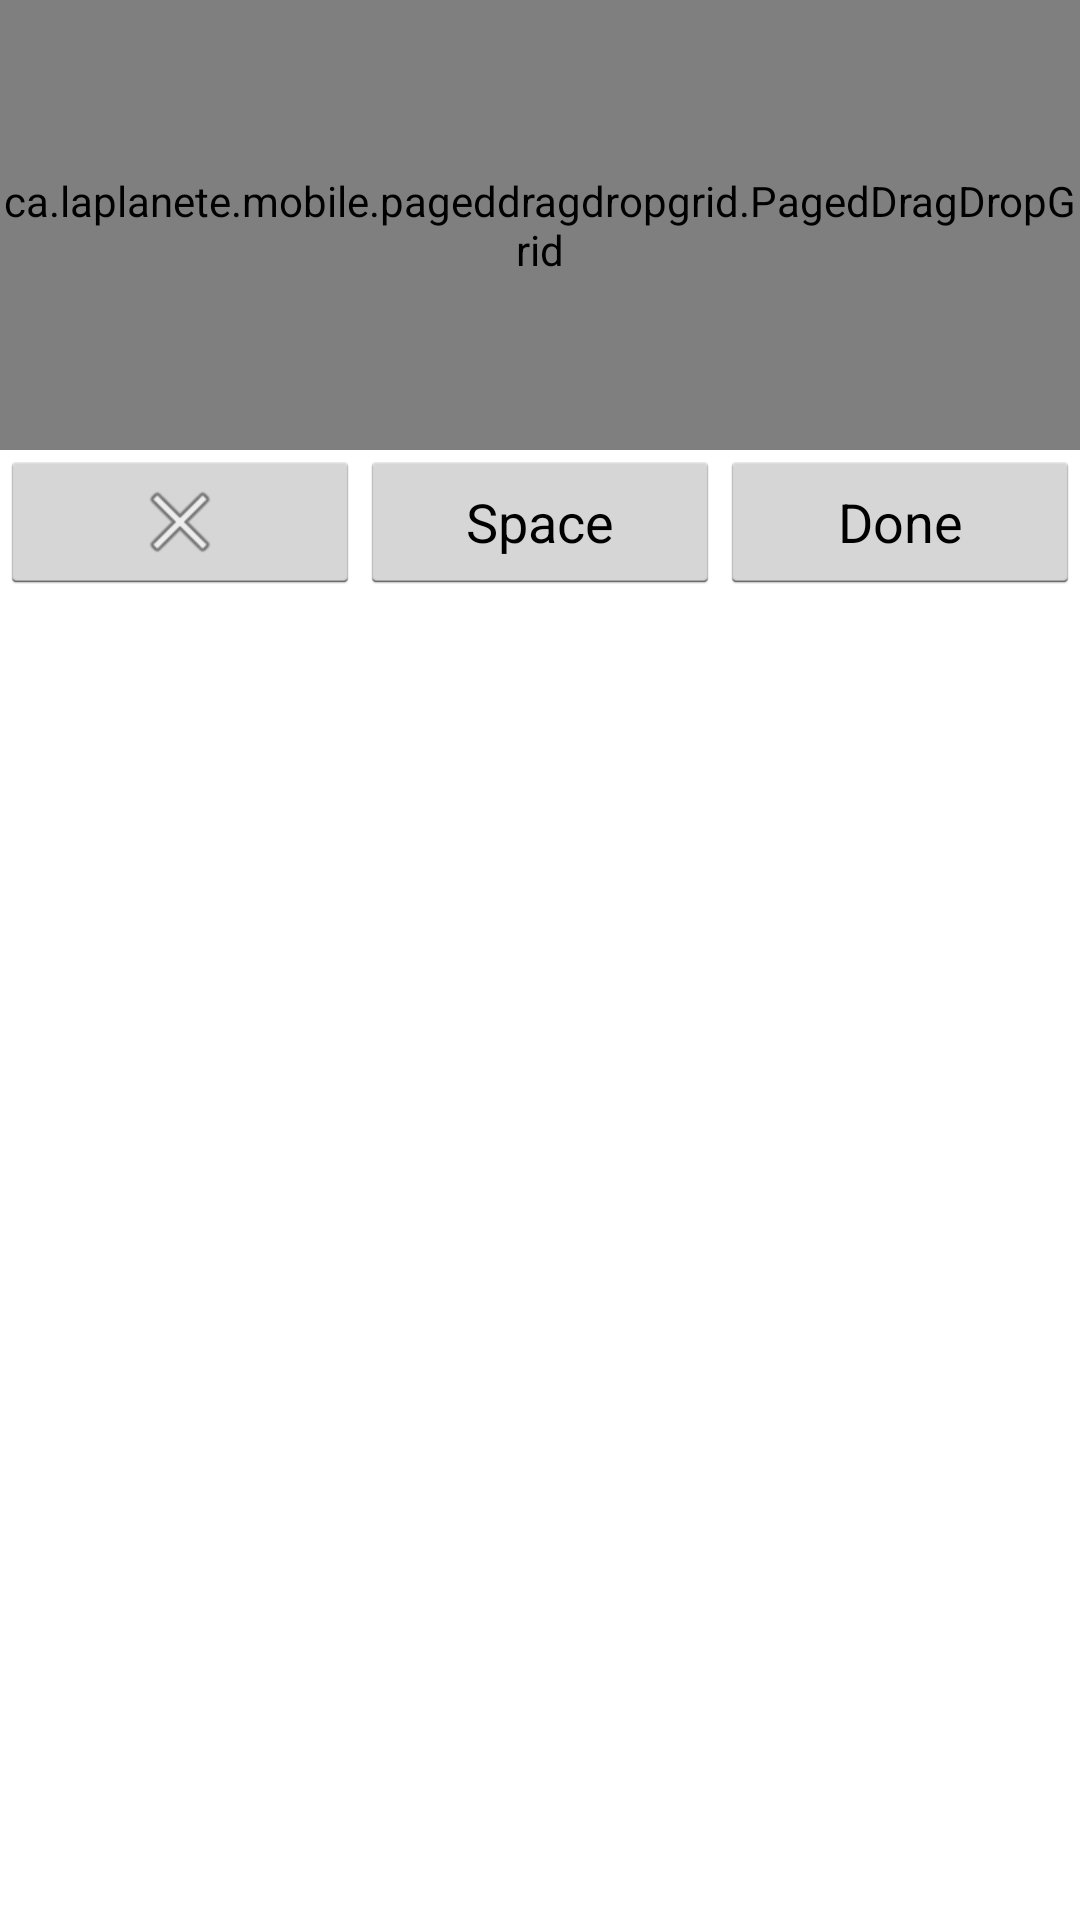

Where icons sit on this 1080 x 1920 app screen, as bbox=(x1, y1, x2, y2):
close clear cancel: bbox=(12, 463, 348, 583)
